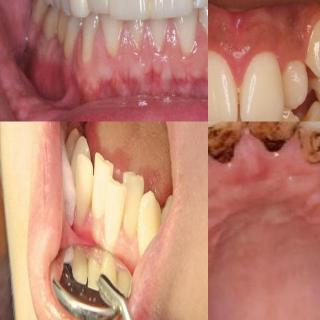Gum Swelling: (49, 26, 116, 90), (155, 21, 208, 77), (116, 21, 159, 78)
maligned: (121, 167, 147, 244), (276, 56, 310, 114), (89, 147, 114, 223), (103, 175, 125, 250), (73, 156, 94, 226), (299, 20, 320, 78), (269, 103, 301, 121)
plaque: (40, 7, 56, 37), (32, 0, 46, 23), (144, 0, 158, 20)
stains: (243, 121, 301, 153), (208, 121, 248, 161), (301, 121, 320, 158), (188, 0, 200, 8)
